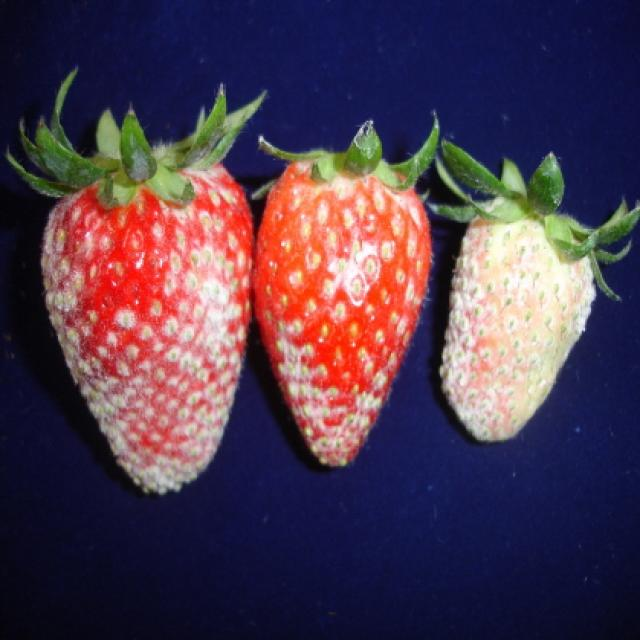Powdery Mildew Fruit: (40, 149, 257, 495), (248, 151, 434, 467), (440, 192, 601, 442)
